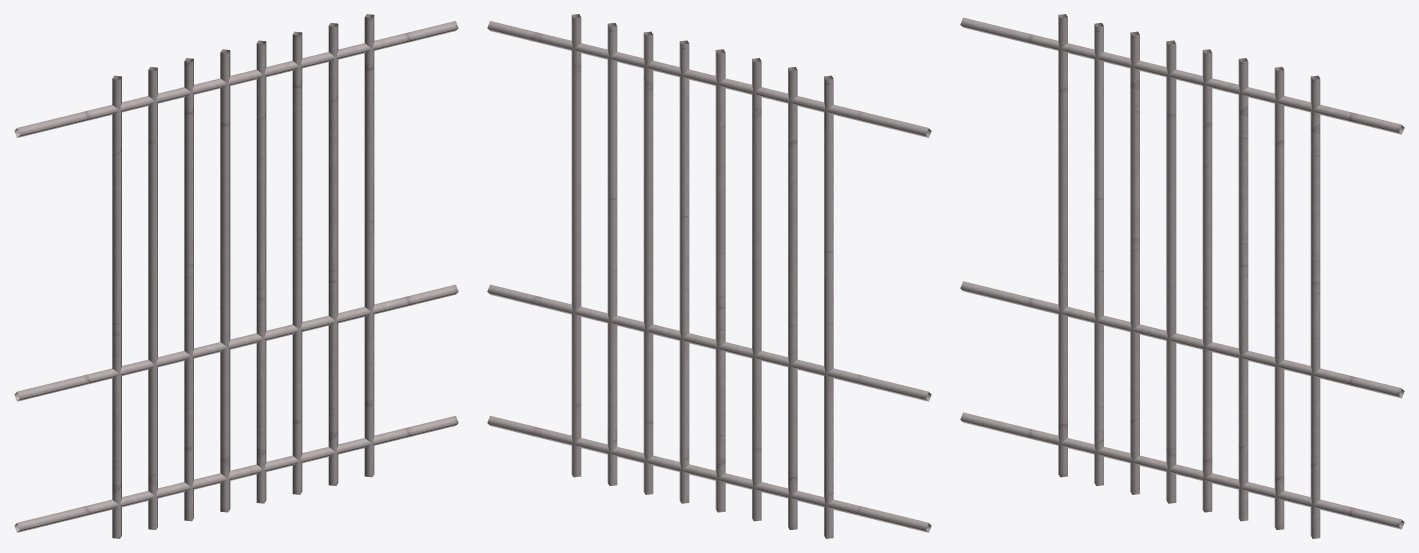
Rendered from EN_W_L1WallCellBars_01_19G4_01_20_ts_1.fbx.
3 views of the same model, side by side, from view 1: azimuth 30°, elevation 25°; view 2: azimuth 150°, elevation 25°; view 3: azimuth 330°, elevation 25° (orthographic).
Parts seen in each view (by area): view 1: EN_W_L1WallCellBars_01_19G4_01_20_ts_1; view 2: EN_W_L1WallCellBars_01_19G4_01_20_ts_1; view 3: EN_W_L1WallCellBars_01_19G4_01_20_ts_1.
Boxes of the visible parts, bbox=[...] form: EN_W_L1WallCellBars_01_19G4_01_20_ts_1: bbox=[14, 14, 458, 538]; EN_W_L1WallCellBars_01_19G4_01_20_ts_1: bbox=[487, 14, 931, 538]; EN_W_L1WallCellBars_01_19G4_01_20_ts_1: bbox=[960, 14, 1404, 538].
Bounding box in the file's own units: 3.41 × 3.41 × 0.0758.
